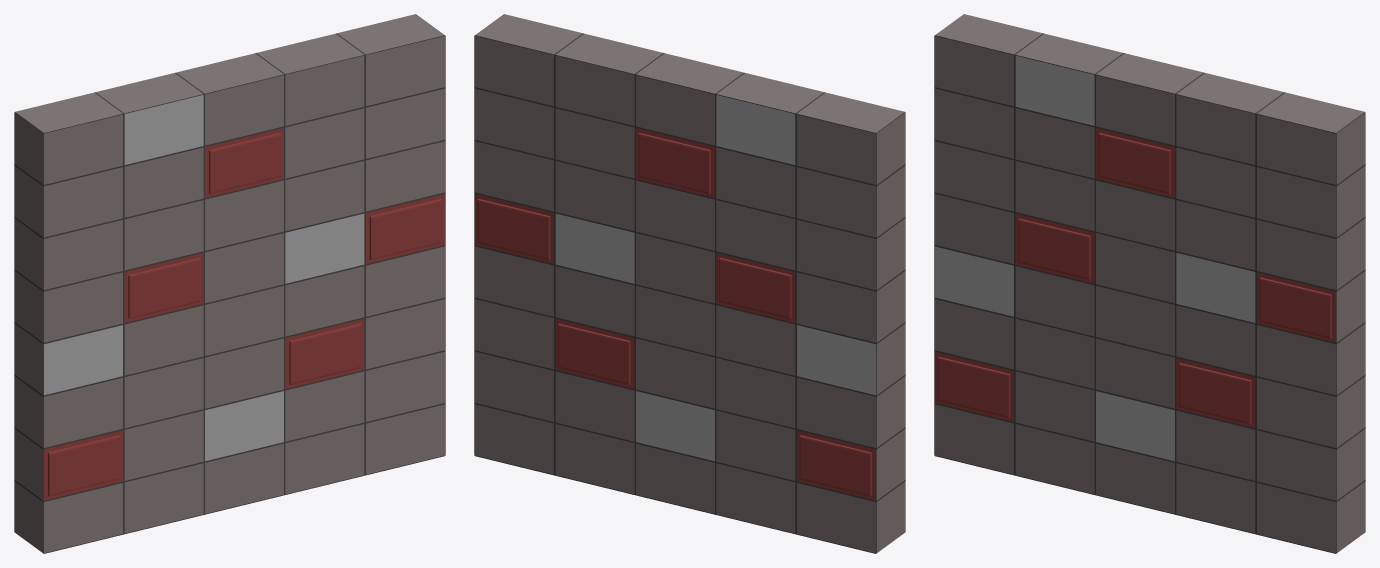
Rendered from Rock Wall.fbx.
3 renders of one model, left to right at view 1: azimuth 30°, elevation 25°; view 2: azimuth 150°, elevation 25°; view 3: azimuth 330°, elevation 25°, orthographic.
Parts seen in each view (by area): view 1: Brick Wall; view 2: Brick Wall; view 3: Brick Wall.
Boxes of the visible parts, x1,y1,x2,y2 form: Brick Wall: [14, 14, 445, 553]; Brick Wall: [474, 14, 905, 553]; Brick Wall: [934, 14, 1365, 553].
Bounding box in the file's own units: 800 × 800 × 110.
